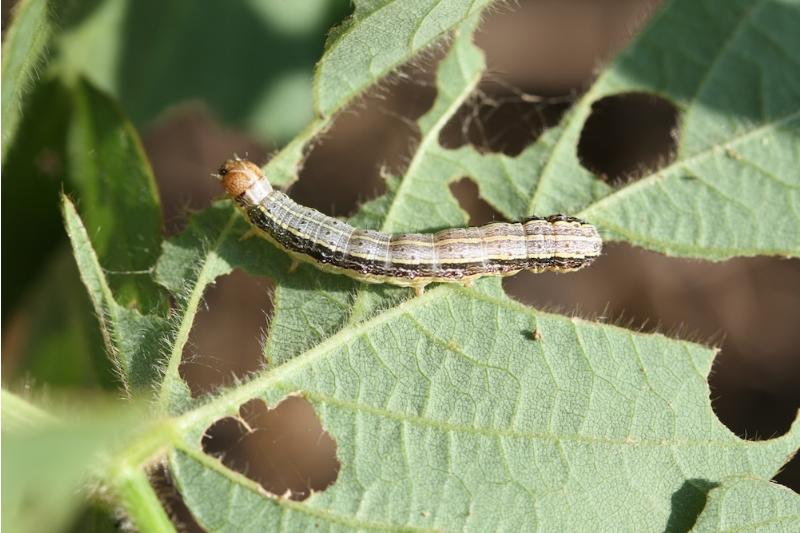fall-armyworm: (217, 157, 602, 299)
